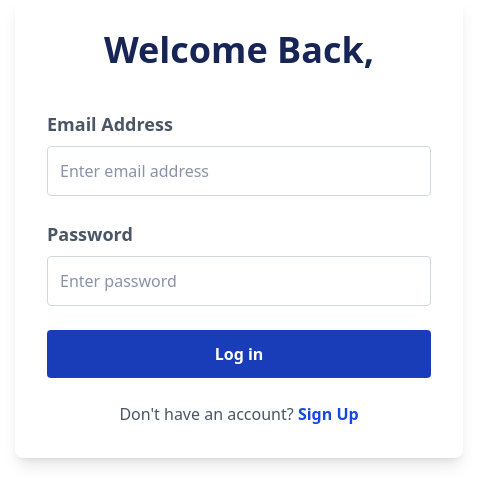
it: Basic Bookmark Functionality Tests › Authentication Flow › should show validation errors for empty form
The width and height of the screenshot is (479, 504).
Try to submit empty form
What coordinates should you click on to do the following:
click the submit button
I would click on:
 (239, 354)
Its box is 47,330 -> 431,378.
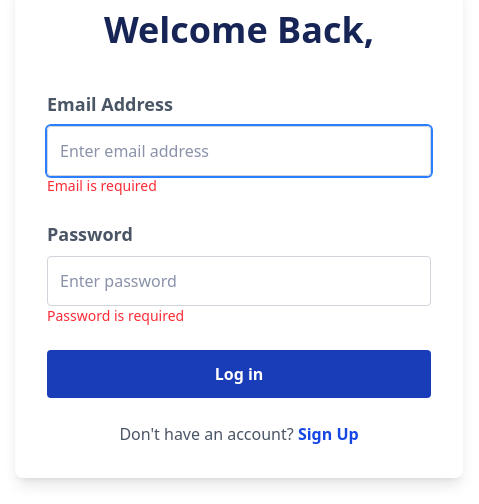
Expected: the text "Email is required" is shown, 47,176 -> 157,195
Expected: the text "Password is required" is shown, 47,306 -> 184,325
